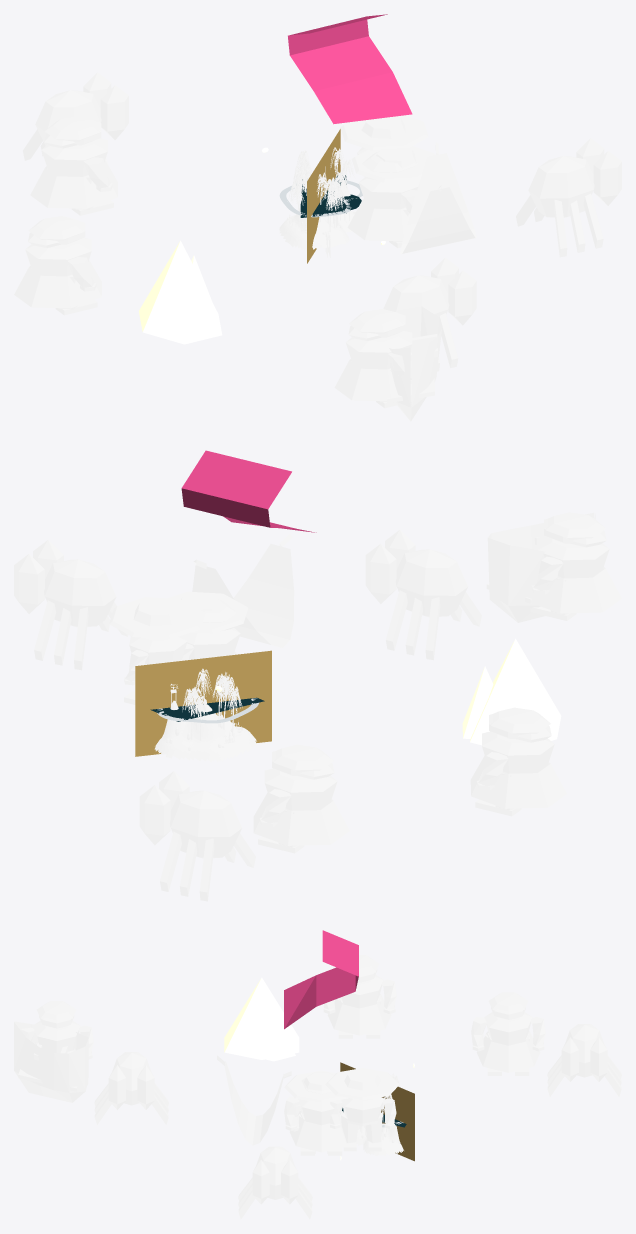
File: ile-moussaillons-v5.glb
The picture shows the model from 3 angles, top to bottom: view 1: azimuth 30°, elevation 25°; view 2: azimuth 150°, elevation 25°; view 3: azimuth 270°, elevation 25°; orthographic projection. The views are drawn at different scales.
Parts seen in each view (by area): view 1: ile_banniere0.002, ile_copie4.001, ile_anime4.002, ile_copie0.002, ile_libre0, ile_anime2.002, ile_anime1.002, ile_anime5.002, ile_corps.002, ile_copie2.001, ile_anime0.002, ile_copie3.001 (+4 smaller); view 2: ile_vitres.002, ile_anime5.002, ile_copie3.001, ile_copie4.001, ile_copie0.002, ile_anime4.002, ile_anime2.002, ile_banniere0.002, ile_anime1.002, ile_corps.002, ile_copie1.001, ile_libre0 (+4 smaller); view 3: ile_copie0.002, ile_copie1.001, ile_anime0.002, ile_libre0, ile_anime4.002, ile_banniere0.002, ile_copie4.001, ile_copie3.001, ile_anime5.002, ile_copie2.001, ile_anime2.002, ile_anime1.002 (+3 smaller).
Boxes of the visible parts, x1,y1,x2,y2 form: ile_banniere0.002: (288, 14, 412, 124); ile_copie4.001: (516, 138, 621, 257); ile_anime4.002: (14, 216, 101, 315); ile_copie0.002: (30, 116, 117, 215); ile_libre0: (139, 240, 222, 344); ile_anime2.002: (334, 309, 412, 408); ile_anime1.002: (400, 142, 476, 254); ile_anime5.002: (383, 257, 476, 371); ile_corps.002: (279, 147, 355, 257); ile_copie2.001: (347, 151, 420, 248); ile_anime0.002: (387, 306, 442, 421); ile_copie3.001: (23, 72, 128, 164); ile_vitres.002: (135, 650, 271, 756); ile_anime5.002: (365, 530, 481, 660); ile_copie3.001: (139, 771, 255, 901); ile_copie4.001: (14, 540, 128, 670); ile_copie0.002: (253, 744, 349, 853); ile_anime4.002: (470, 707, 566, 816); ile_anime2.002: (527, 512, 621, 620); ile_banniere0.002: (181, 450, 316, 532); ile_anime1.002: (192, 534, 294, 647); ile_corps.002: (154, 668, 256, 762); ile_copie1.001: (109, 597, 205, 704); ile_libre0: (462, 638, 561, 745); ile_copie0.002: (471, 992, 545, 1075); ile_copie1.001: (325, 1068, 399, 1151); ile_anime0.002: (14, 1021, 88, 1102); ile_libre0: (224, 977, 299, 1061); ile_anime4.002: (323, 955, 396, 1038); ile_banniere0.002: (284, 930, 358, 1029); ile_copie4.001: (238, 1146, 312, 1219); ile_copie3.001: (547, 1024, 621, 1096); ile_anime5.002: (94, 1052, 168, 1124); ile_copie2.001: (284, 1072, 346, 1155); ile_anime2.002: (21, 1001, 93, 1059); ile_anime1.002: (217, 1055, 291, 1145).
Size of the model in its own units: 13.61 by 5.8 by 16.27.
